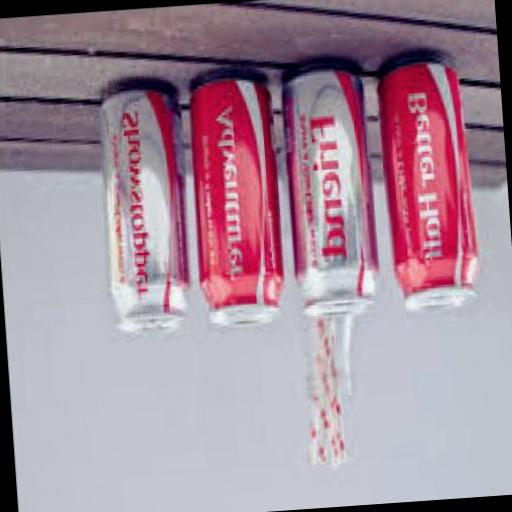metal: (180, 74, 287, 328), (376, 52, 480, 312), (276, 62, 377, 322), (94, 80, 196, 334)
